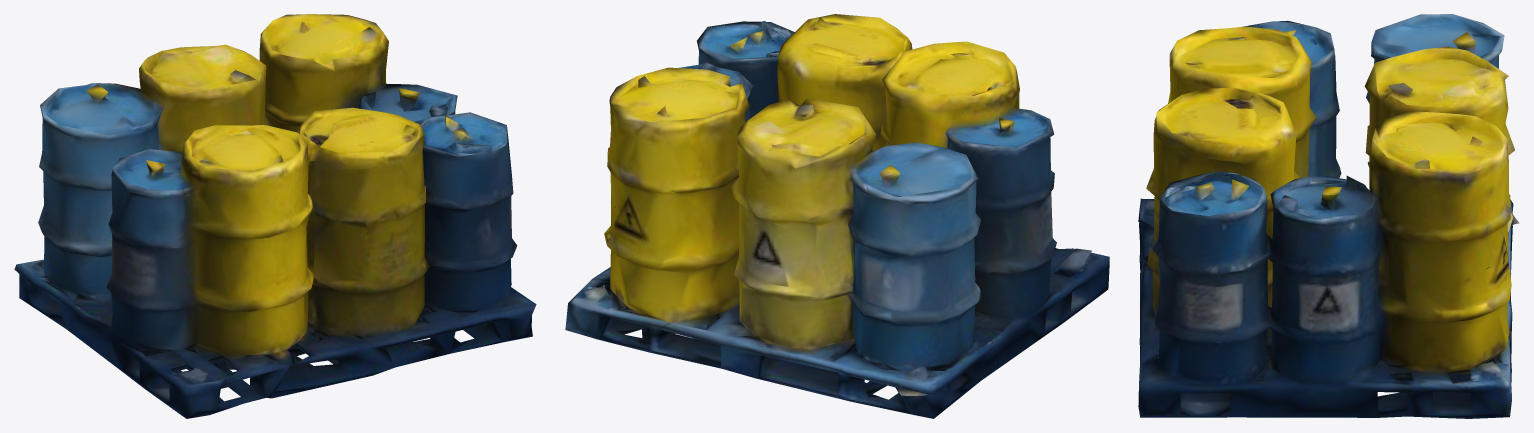
Rendered from xd_chem.glb.
3 views of the same model, side by side, from view 1: azimuth 30°, elevation 25°; view 2: azimuth 150°, elevation 25°; view 3: azimuth 270°, elevation 25° (orthographic). The views are drawn at different scales.
Parts seen in each view (by area): view 1: tripo_node_4fc98d48-0665-4cbe-950e-eab0e18d95e7; view 2: tripo_node_4fc98d48-0665-4cbe-950e-eab0e18d95e7; view 3: tripo_node_4fc98d48-0665-4cbe-950e-eab0e18d95e7.
Part boxes in pixels (x1=…): tripo_node_4fc98d48-0665-4cbe-950e-eab0e18d95e7: x1=14, y1=14, x2=536, y2=418; tripo_node_4fc98d48-0665-4cbe-950e-eab0e18d95e7: x1=565, y1=14, x2=1109, y2=418; tripo_node_4fc98d48-0665-4cbe-950e-eab0e18d95e7: x1=1138, y1=14, x2=1519, y2=418.
Bounding box in the file's own units: 1 × 0.5806 × 0.8323.
Materials: 1 (1 with a texture image).
